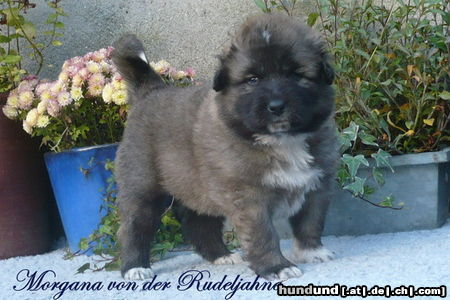cau_ovcharka: (110, 13, 343, 283)
